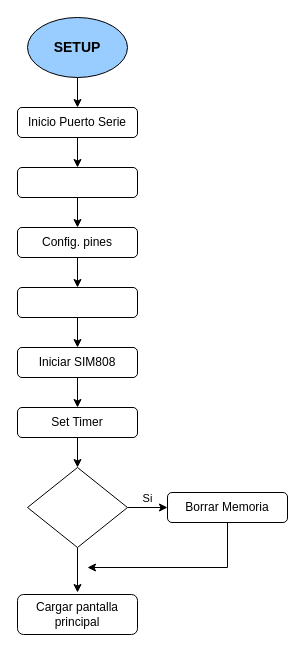
Some shapes in this 305 by 652 pixel diagram are drawn without their labels. Here are the shapes that lost their labels. From the top down, the centre of each, then its label:
At point (77, 182): "Inicio display táctil".
At point (77, 302): "Habilitar INT".
At point (77, 507): "Jumper == LOW".
